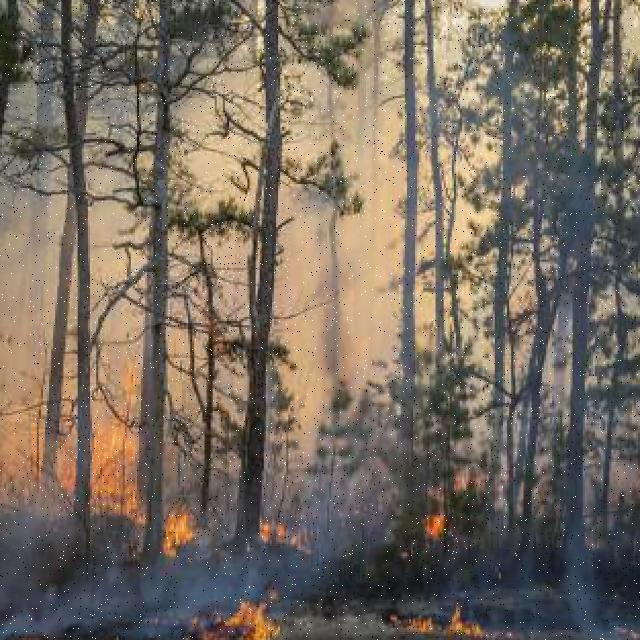fire: (94, 340, 139, 520), (392, 601, 524, 640), (223, 587, 284, 640), (253, 505, 313, 554), (156, 478, 197, 548), (413, 493, 448, 556), (81, 632, 122, 640)
smoke: (532, 196, 595, 511), (0, 550, 198, 627), (542, 509, 640, 640), (198, 456, 250, 589)
